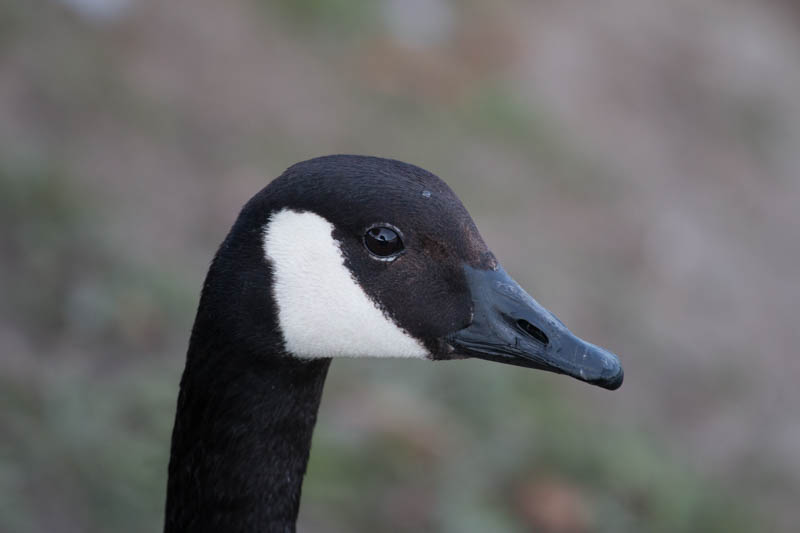goose-head: (186, 153, 624, 391)
